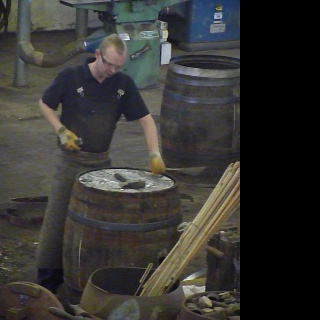without_mask: (96, 44, 127, 77)
